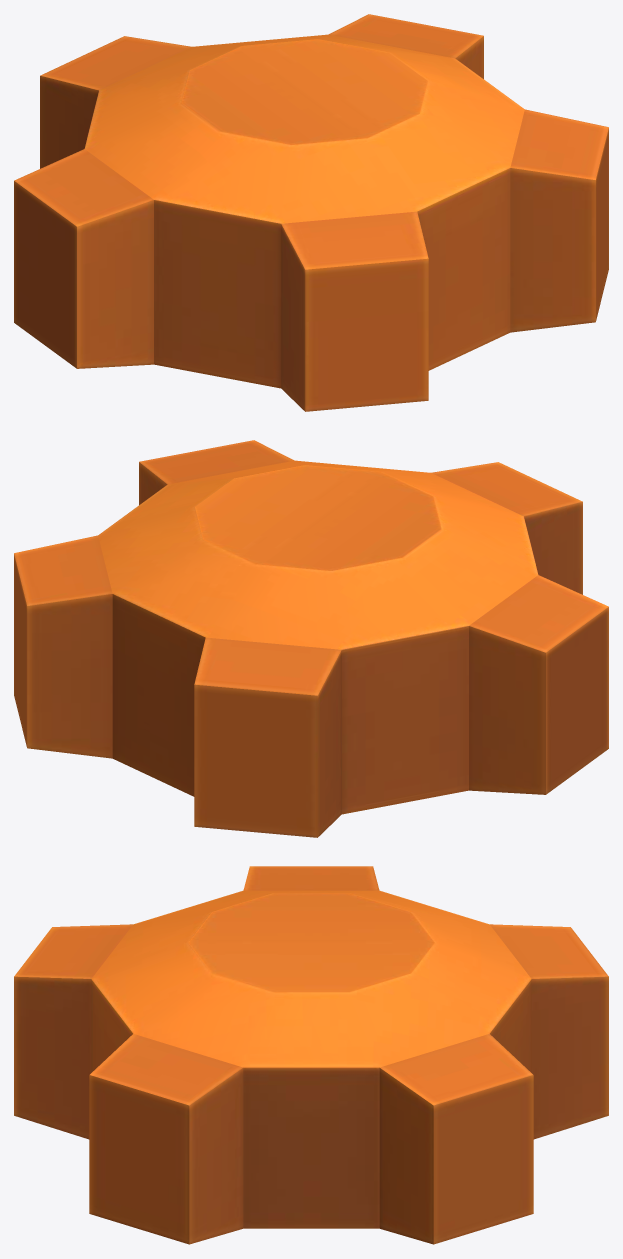
File: obj_gear02_base.gltf
3 views of the same model, one above another, from view 1: azimuth 30°, elevation 25°; view 2: azimuth 150°, elevation 25°; view 3: azimuth 270°, elevation 25° (orthographic). The views are drawn at different scales.
Visible parts, largest first — view 1: obj_gear02_base; view 2: obj_gear02_base; view 3: obj_gear02_base.
Part boxes in pixels (x1=…): obj_gear02_base: x1=14, y1=14, x2=608, y2=411; obj_gear02_base: x1=14, y1=440, x2=608, y2=837; obj_gear02_base: x1=14, y1=866, x2=608, y2=1244.
Size of what is drawn, in the model's own units: 0.4014 by 0.1829 by 0.4221.
1 material, 1 textured.
